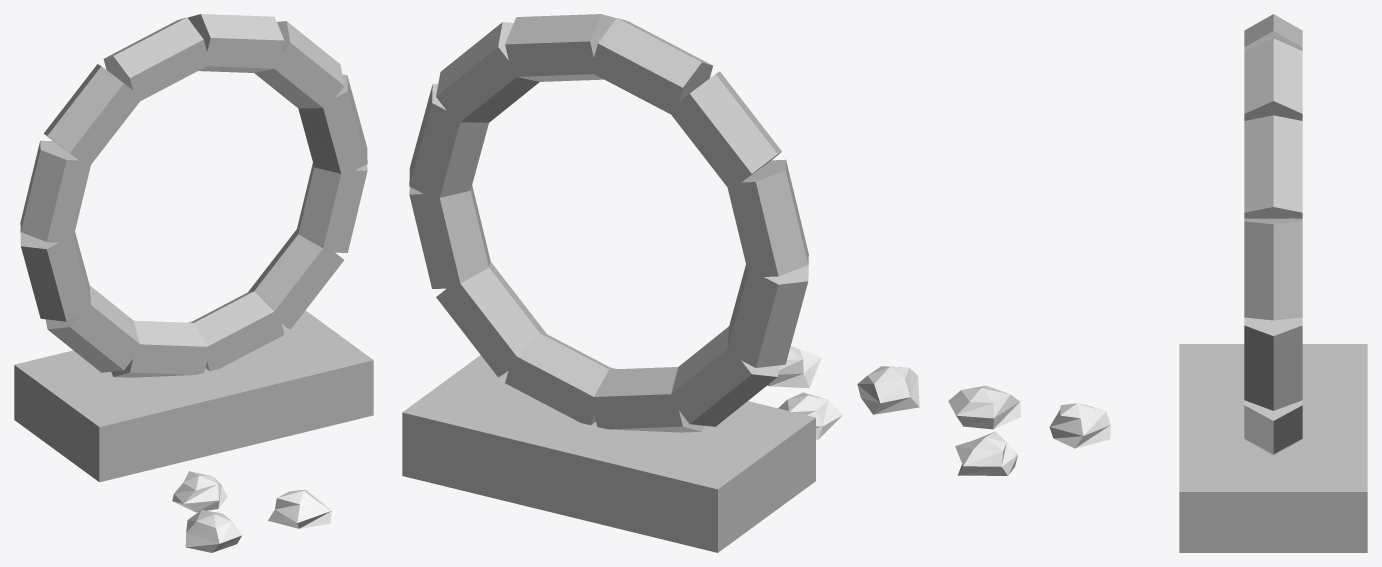
Rendered from hoopstone_ring.obj.
3 views of the same model, side by side, from view 1: azimuth 30°, elevation 25°; view 2: azimuth 150°, elevation 25°; view 3: azimuth 270°, elevation 25° (orthographic). The views are drawn at different scales.
Visible parts, largest first — view 1: hoopstone_ring; view 2: hoopstone_ring; view 3: hoopstone_ring.
Part boxes in pixels (bbox=[...]): hoopstone_ring: bbox=[14, 14, 373, 552]; hoopstone_ring: bbox=[402, 14, 919, 552]; hoopstone_ring: bbox=[948, 14, 1367, 552].
Bounding box in the file's own units: 0.6566 × 0.7283 × 0.6232.
